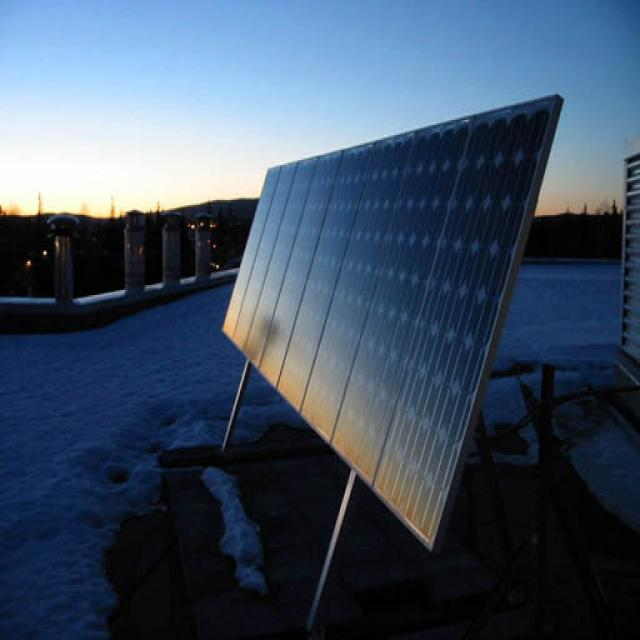clean-solar-panel: (224, 97, 562, 550)
